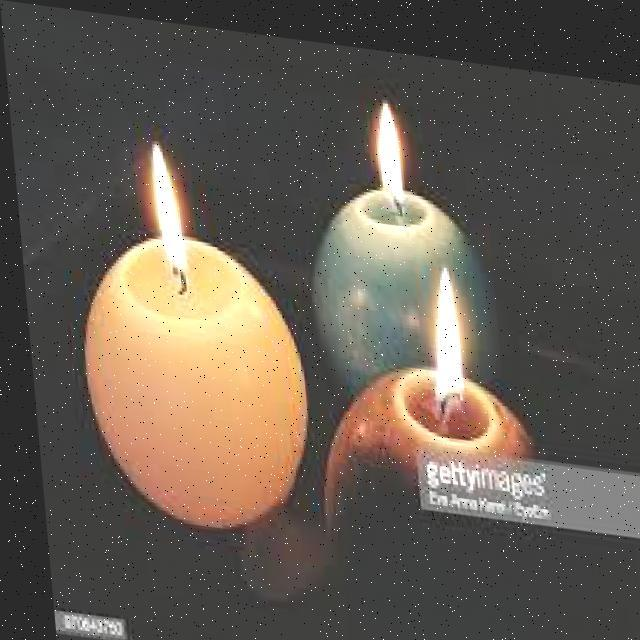Fire: (408, 236, 468, 386), (362, 84, 424, 205), (132, 129, 185, 262)
